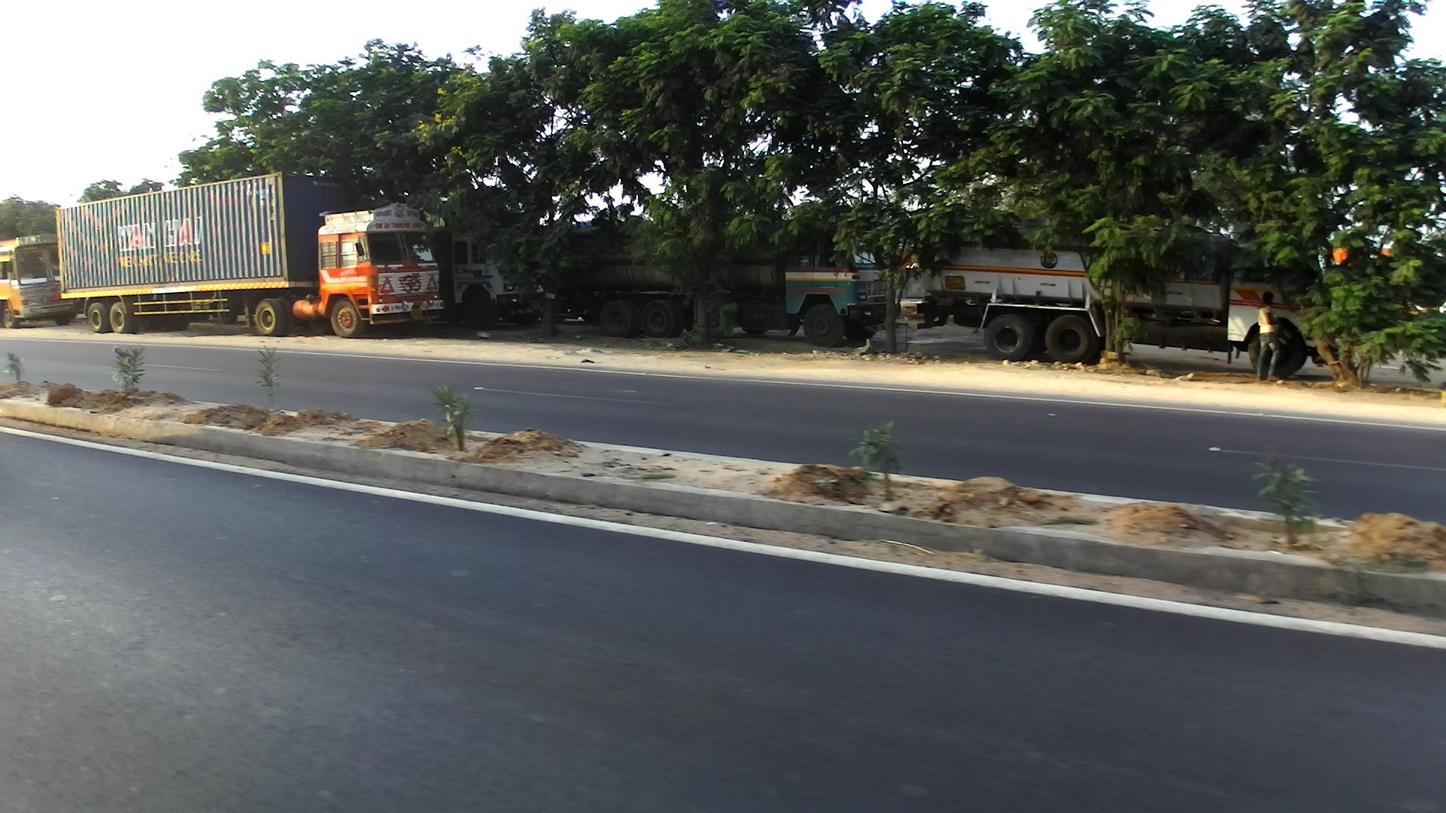person: (1250, 289, 1286, 386)
truck: (913, 196, 1340, 376), (55, 171, 444, 340), (569, 202, 901, 348), (428, 206, 551, 327), (2, 233, 84, 327)
